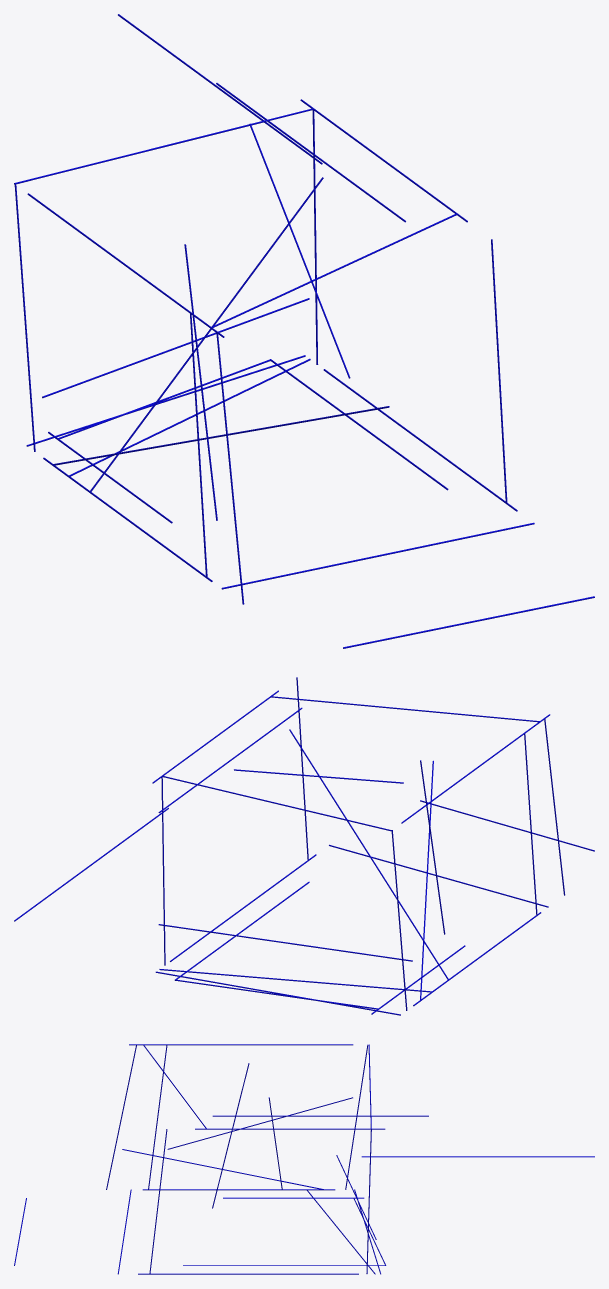
File: corrected_3d_strokes.glb
The picture shows the model from 3 angles, top to bottom: view 1: azimuth 30°, elevation 25°; view 2: azimuth 150°, elevation 25°; view 3: azimuth 270°, elevation 25°; orthographic projection. The views are drawn at different scales.
Parts seen in each view (by area): view 1: world; view 2: world; view 3: world.
Boxes of the visible parts, x1=… form: world: x1=14, y1=14, x2=594, y2=648; world: x1=14, y1=677, x2=594, y2=1015; world: x1=14, y1=1044, x2=594, y2=1274.
Bounding box in the file's own units: 7.71 × 6.58 × 22.36.
